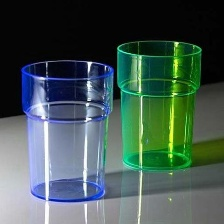glass: (11, 57, 119, 205), (108, 36, 207, 177)
